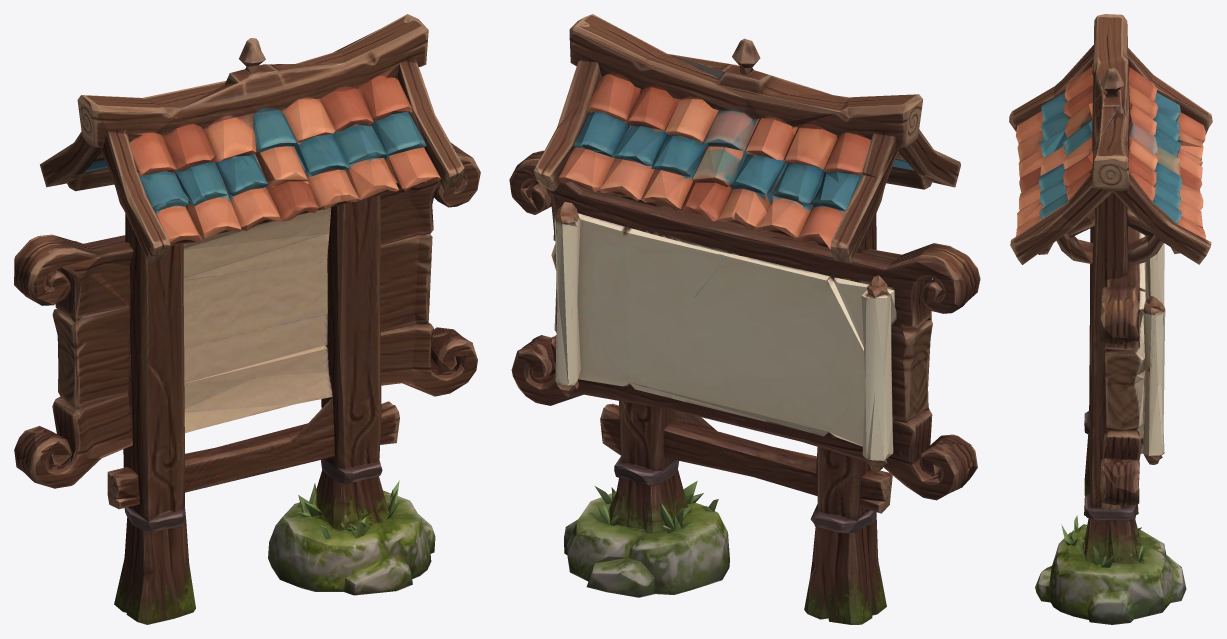
File: signboard.fbx
The picture shows the model from 3 angles, left to right: view 1: azimuth 30°, elevation 25°; view 2: azimuth 150°, elevation 25°; view 3: azimuth 270°, elevation 25°; orthographic projection. The views are drawn at different scales.
Parts seen in each view (by area): view 1: signboard; view 2: signboard; view 3: signboard.
Boxes of the visible parts, x1,y1,x2,y2 form: signboard: [14, 14, 480, 624]; signboard: [509, 14, 980, 624]; signboard: [1009, 14, 1212, 624].
Size of the model in its own units: 2.26 by 2.6 by 0.9968.
